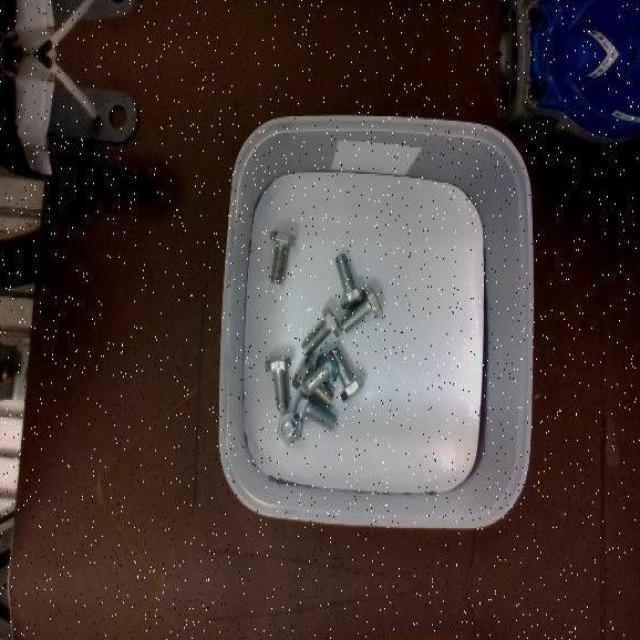screw: (343, 285, 384, 333), (301, 306, 341, 352), (302, 351, 339, 395), (336, 252, 364, 308), (269, 230, 296, 284), (265, 356, 291, 412), (277, 411, 302, 446)
